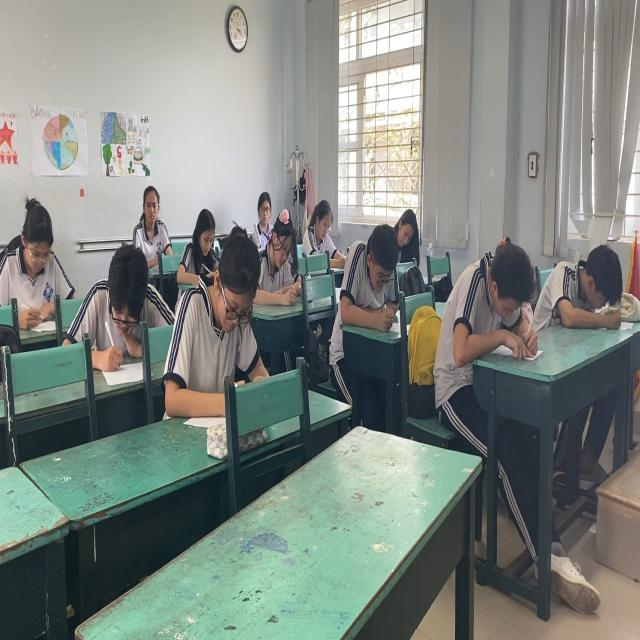not_cheating: (447, 220, 539, 372), (195, 216, 268, 399), (67, 239, 183, 350), (539, 233, 624, 337), (2, 195, 74, 316), (342, 219, 400, 334), (247, 192, 302, 295), (134, 182, 174, 260), (181, 202, 222, 274), (389, 192, 420, 264), (307, 188, 338, 256)
